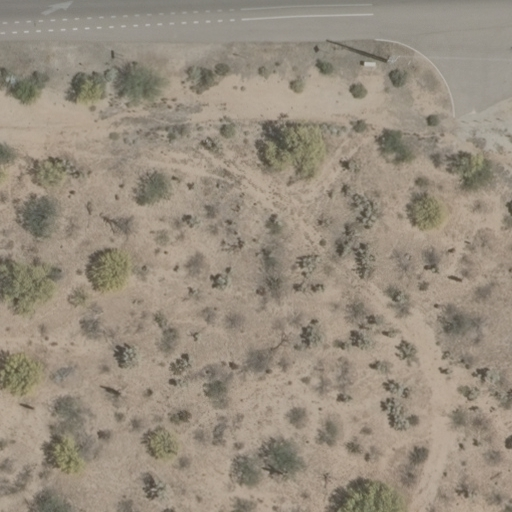DT: (382, 49, 407, 70)
